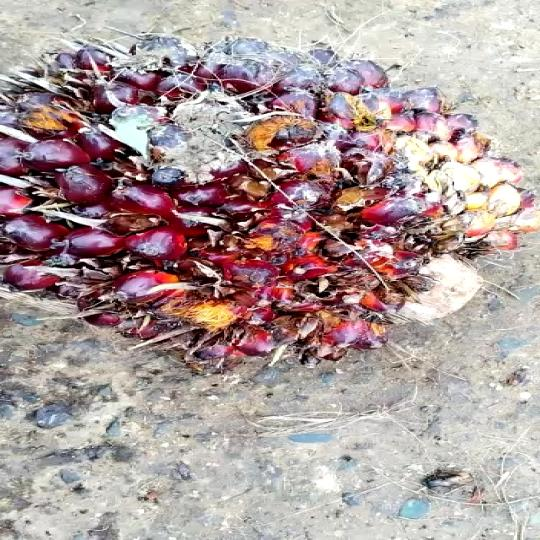masak: (0, 26, 540, 367)
